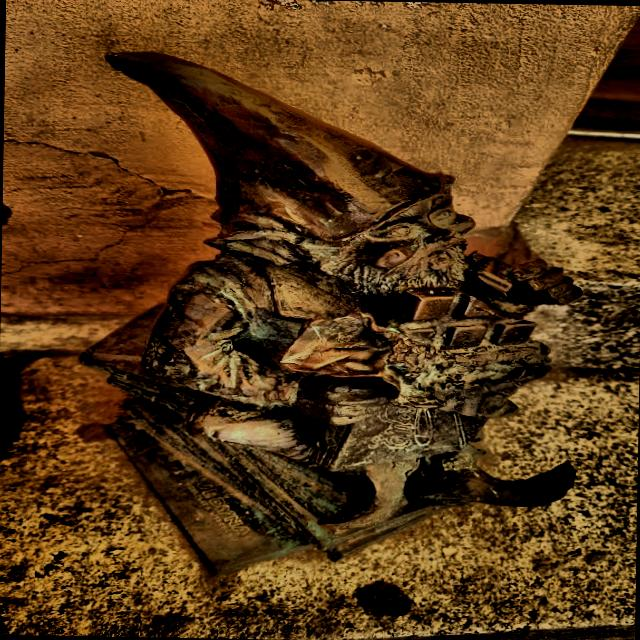Wedelek: (81, 52, 578, 572)
